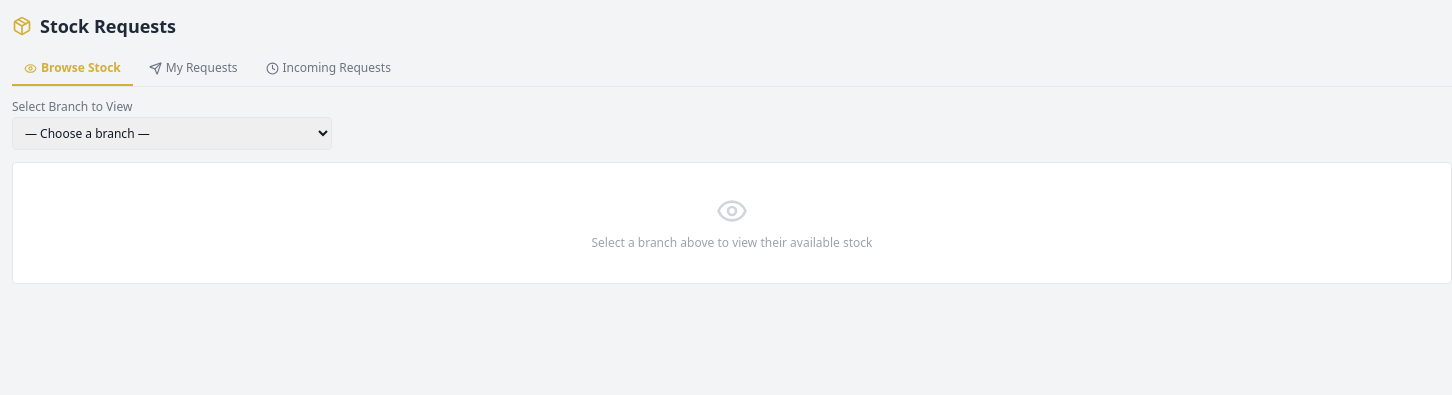
it: Browse Stock Tab › shows request panel when items selected
Select "Sub Branch (SB)" in the dropdown at (172, 134), box left=12, top=117, right=332, bottom=150
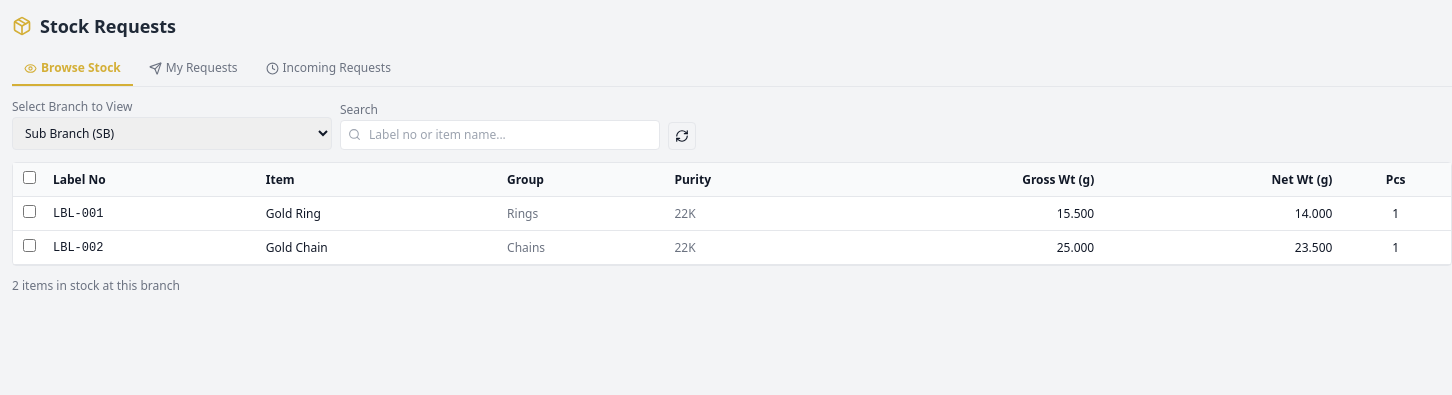
expect the text "LBL-001" is shown: met
# Click on a row to select
Click the text "LBL-001".
click(78, 214)  # box left=45, top=196, right=258, bottom=230
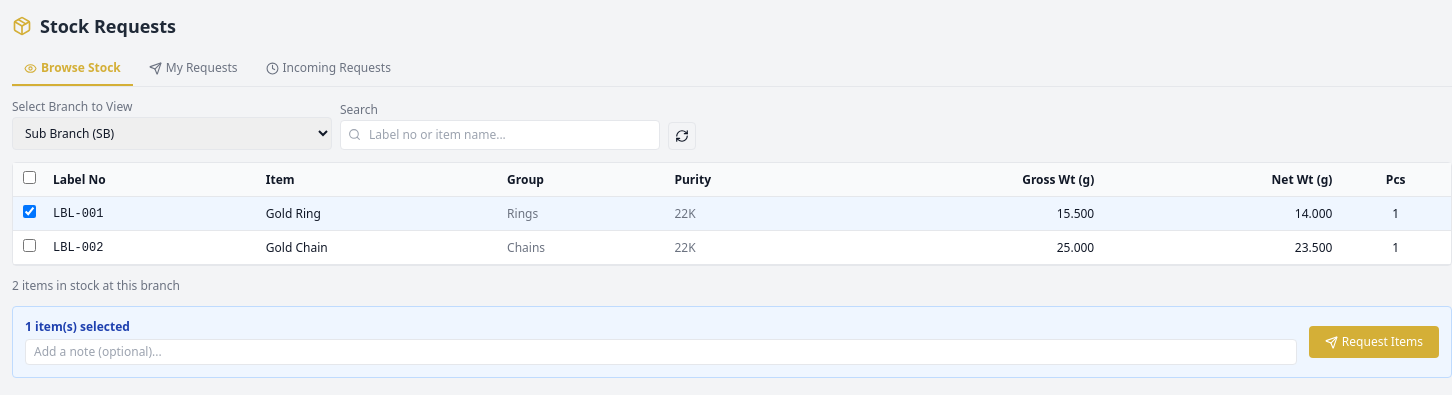
expect the text "1 item(s) selected" is shown: met, box left=25, top=318, right=130, bottom=335
expect the button "Request Items" is shown: met, box left=1309, top=326, right=1439, bottom=358
